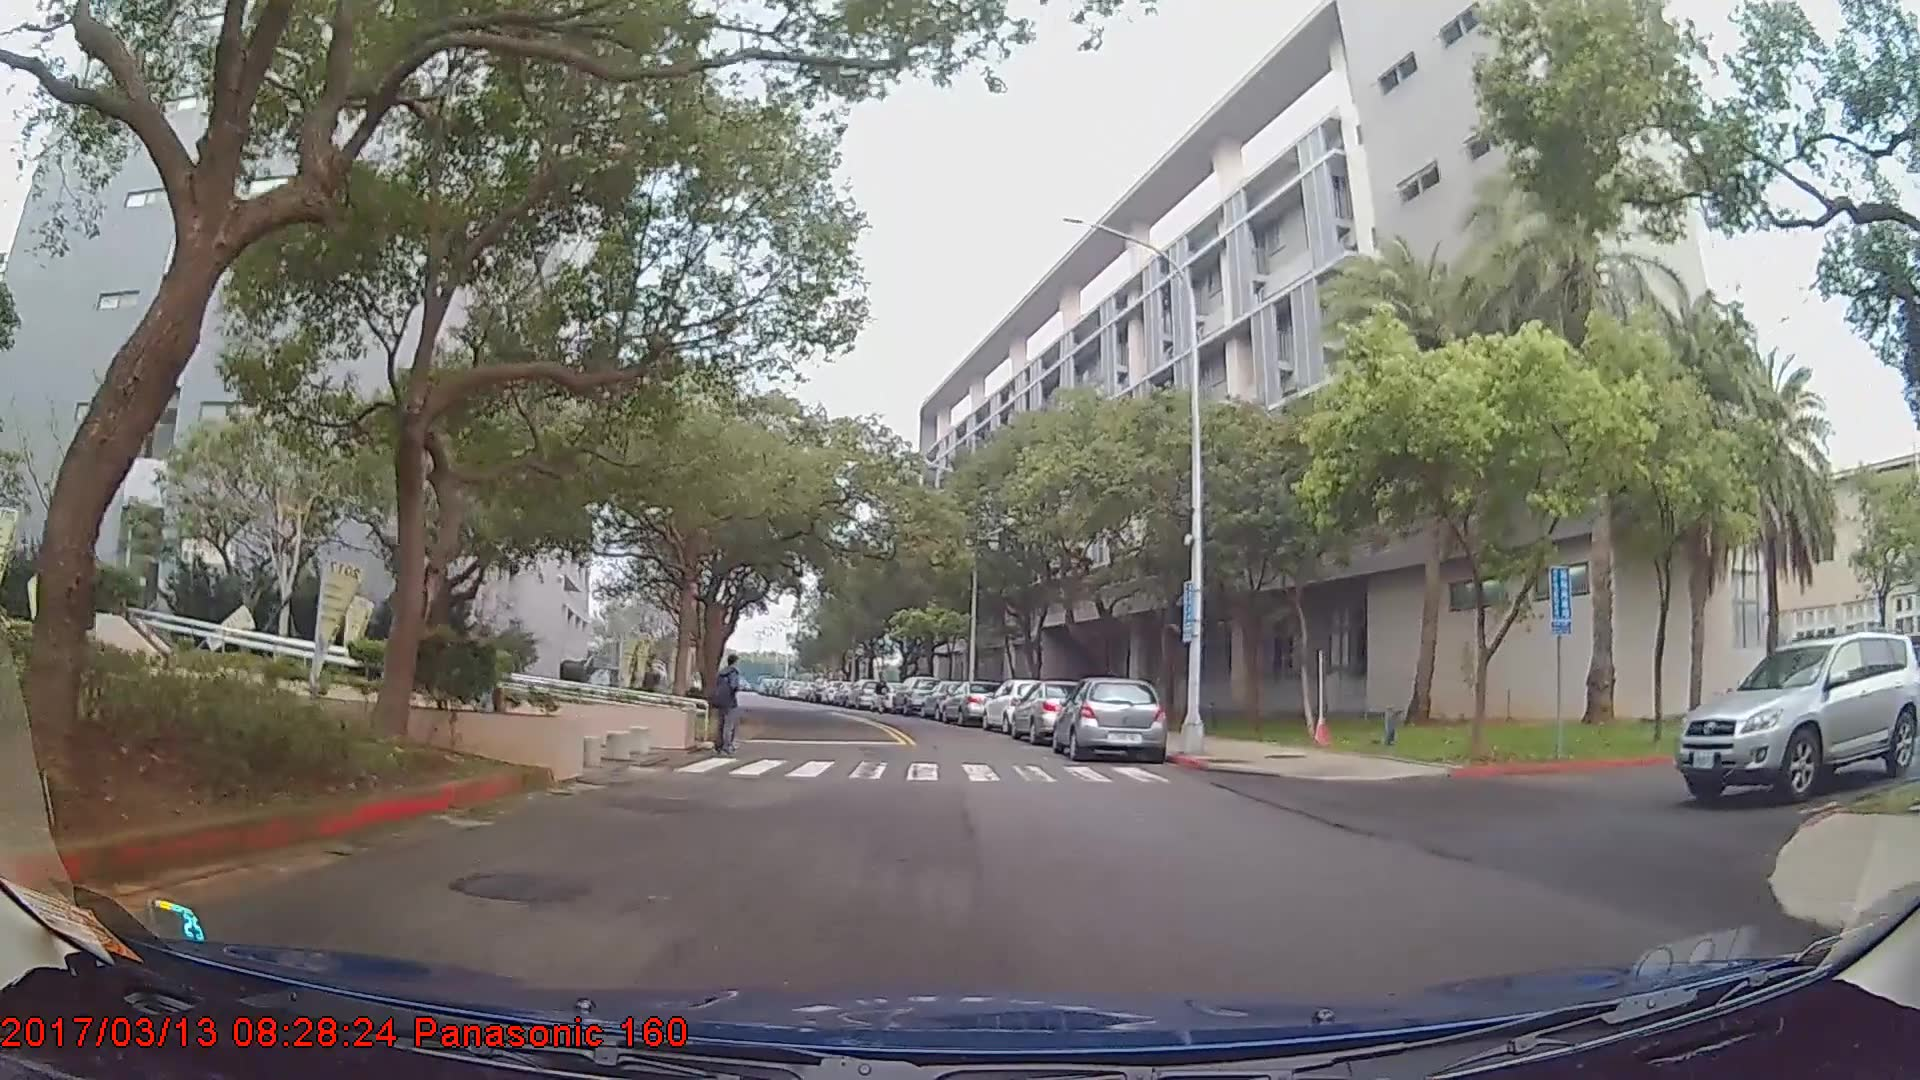pedestrian: (711, 659, 751, 767), (872, 674, 892, 716)
vehicle: (1674, 630, 1920, 806), (1051, 677, 1167, 763), (1008, 679, 1098, 744), (980, 680, 1058, 735), (938, 680, 1004, 728), (890, 675, 939, 716)
